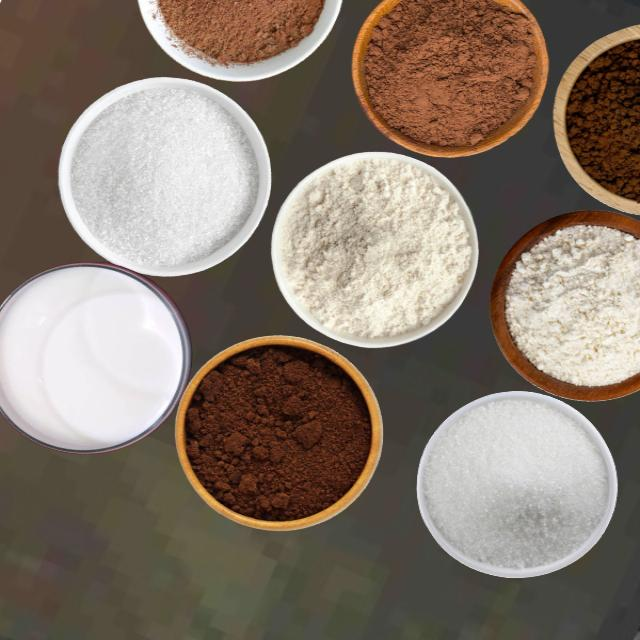Cocoa: (346, 0, 552, 160), (155, 0, 324, 67)
Coffee: (182, 342, 372, 523), (564, 37, 639, 202)
Flour: (277, 155, 472, 339), (504, 223, 639, 387)
Sugar: (69, 84, 258, 268), (420, 396, 608, 569)
